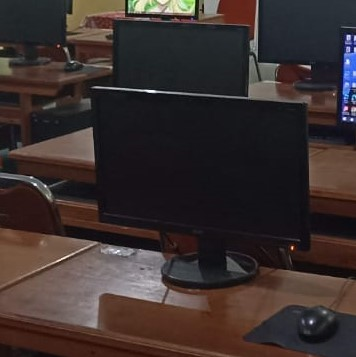monitor: (90, 86, 311, 288), (112, 18, 250, 97), (255, 0, 355, 87), (1, 0, 71, 49), (125, 0, 199, 19)
